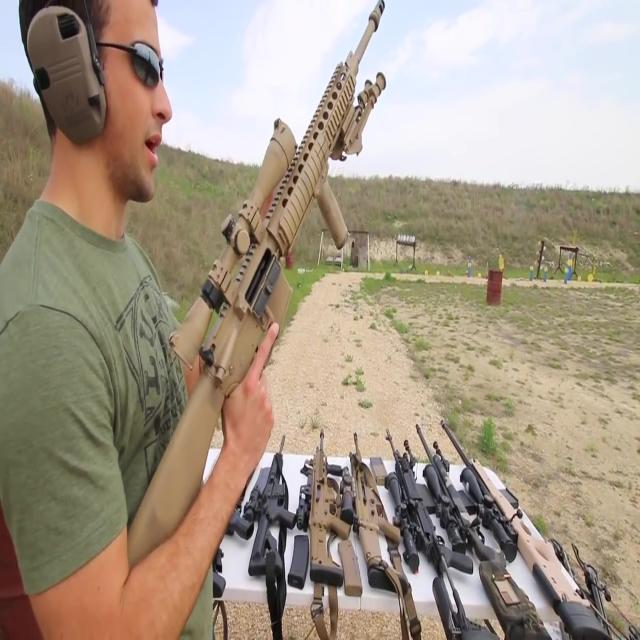Weapon: (90, 0, 403, 577), (131, 345, 625, 640)
